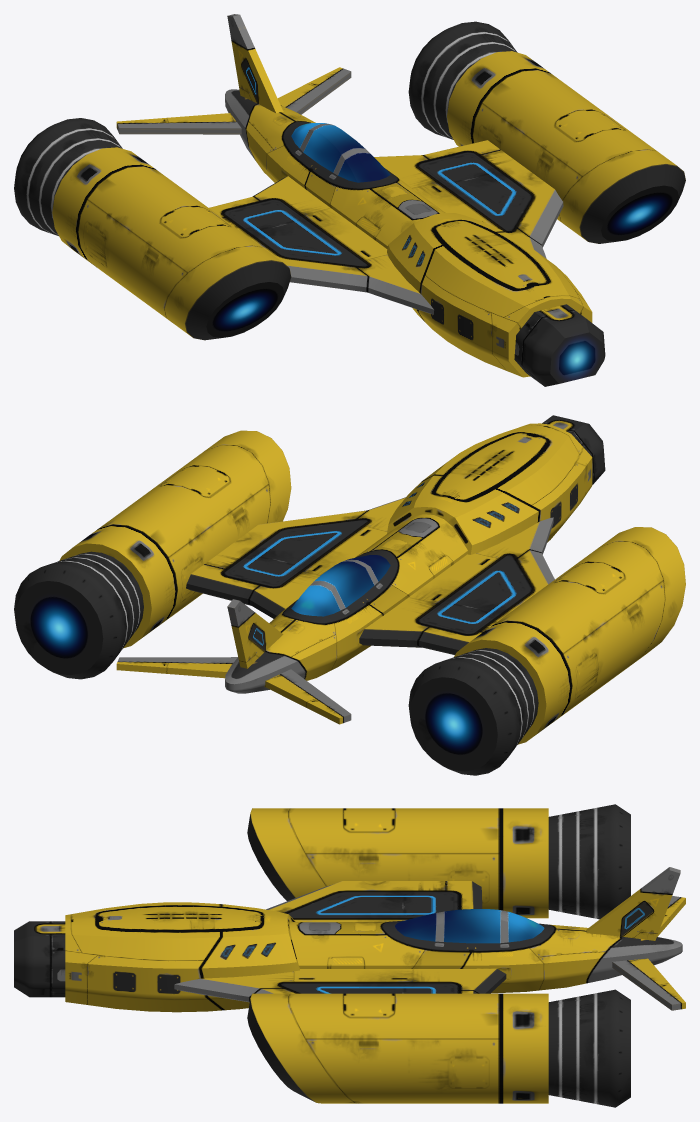
File: Nave.gltf
3 views of the same model, one above another, from view 1: azimuth 30°, elevation 25°; view 2: azimuth 150°, elevation 25°; view 3: azimuth 270°, elevation 25° (orthographic). The views are drawn at different scales.
Parts seen in each view (by area): view 1: Nave; view 2: Nave; view 3: Nave.
Boxes of the visible parts, <box> form: Nave: <box>14,14,685,386</box>; Nave: <box>14,415,685,775</box>; Nave: <box>14,804,685,1107</box>.
Bounding box in the file's own units: 352 × 98.43 × 424.
Materials: 1 (1 with a texture image).
